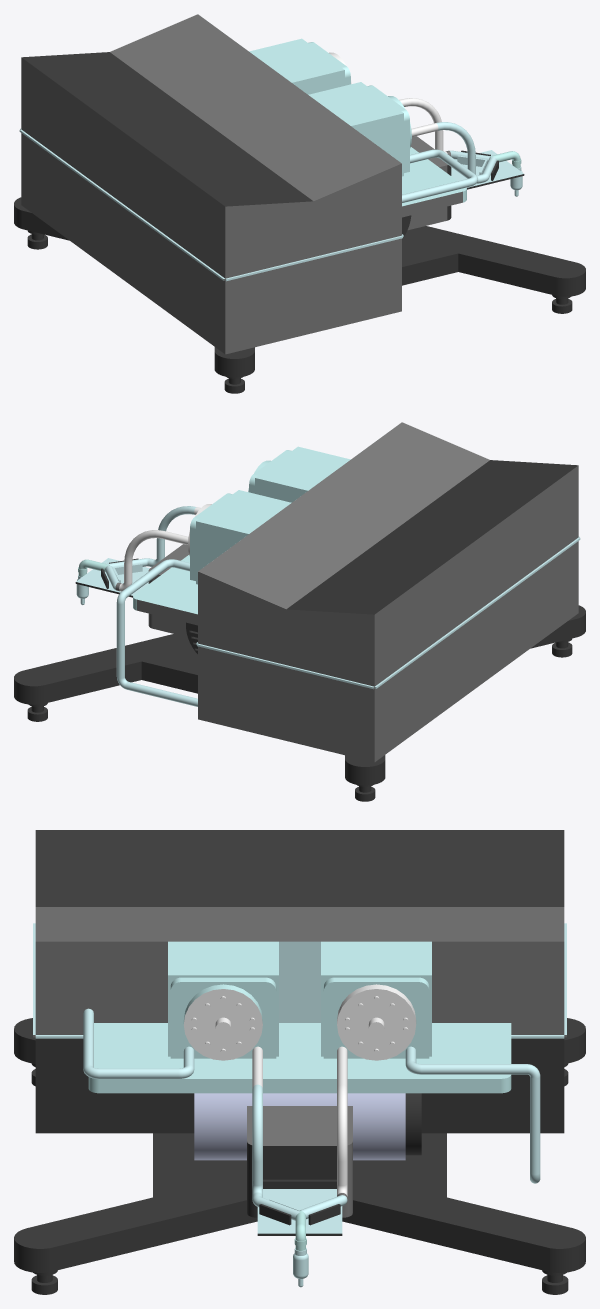
Rendered from sprayer-system.glb.
3 renders of one model, top to bottom at view 1: azimuth 30°, elevation 25°; view 2: azimuth 150°, elevation 25°; view 3: azimuth 270°, elevation 25°, orthographic. The views are drawn at different scales.
Parts seen in each view (by area): view 1: Sprayer system; view 2: Sprayer system; view 3: Sprayer system.
Boxes of the visible parts, x1,y1,x2,y2 form: Sprayer system: (14,14,585,393); Sprayer system: (14,422,585,801); Sprayer system: (14,830,585,1294).
Size of the model in its own units: 1 by 0.4447 by 0.944.
